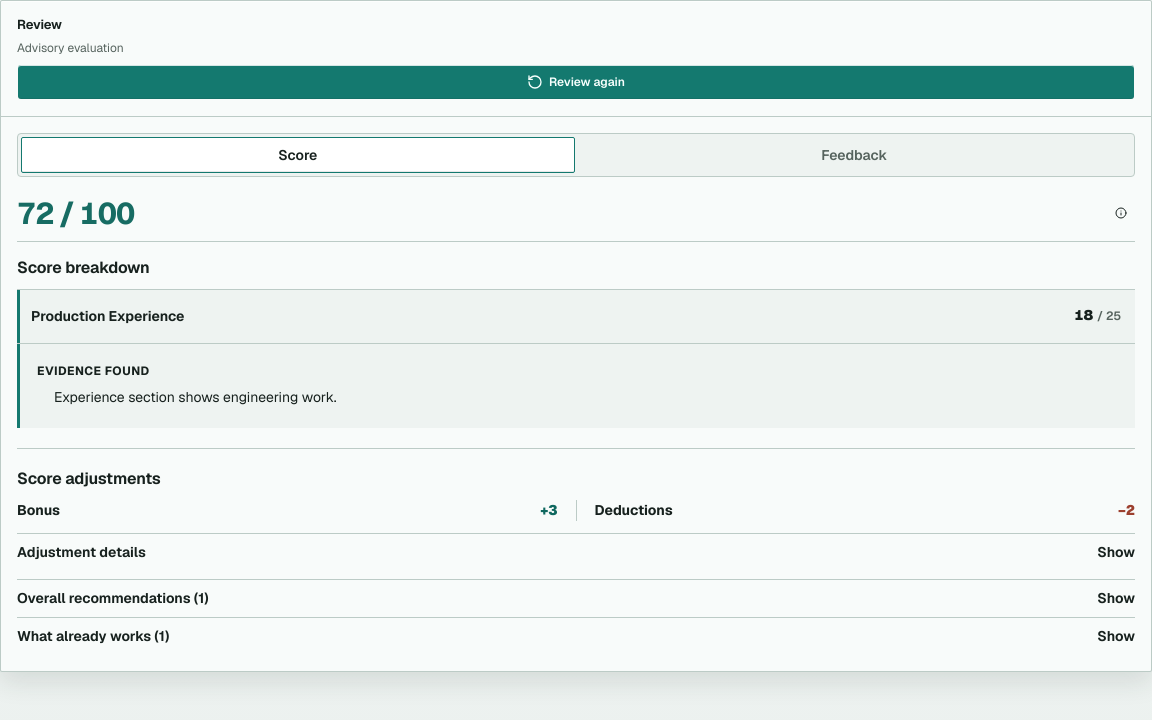
Scenario: ReviewPanel › does not repeat selected category guidance already present in findings
The width and height of the screenshot is (1152, 720).
Expected: the text "Quantify production impact." is not shown
What coordinates should you click on to do the following:
click the button "Overall recommendations (1) Show"
I would click on:
 (113, 598)
Its box is x1=17 y1=579 x2=1135 y2=617.
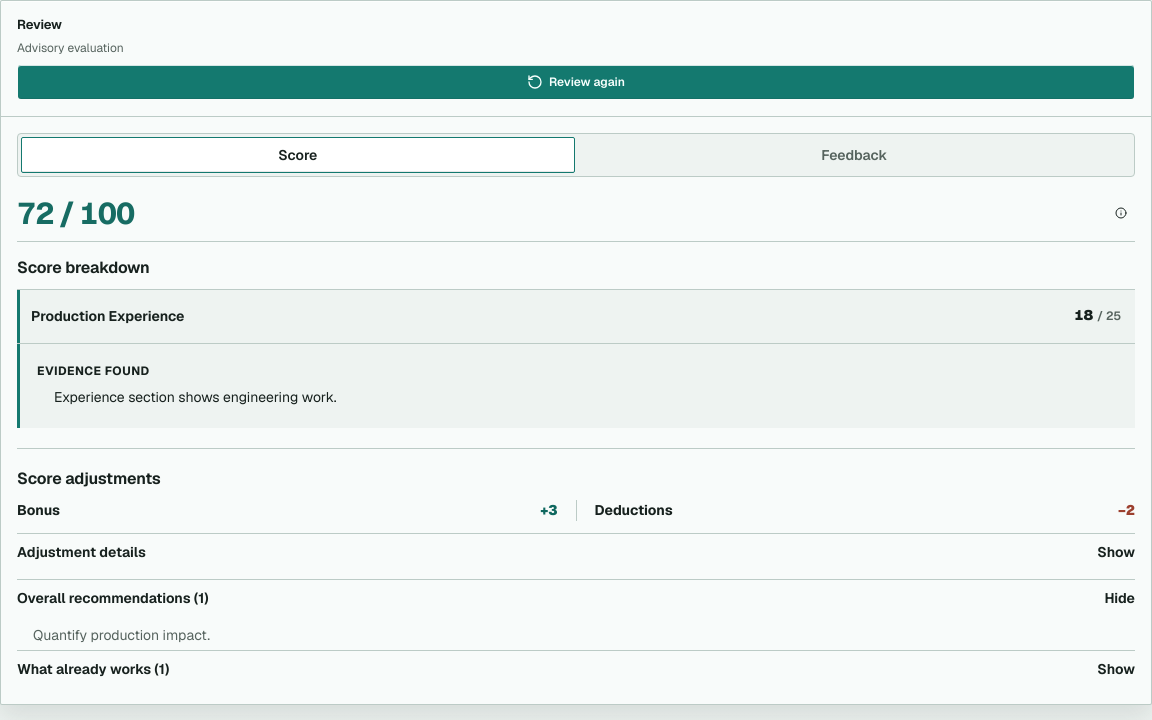
Expected: the number of list items "Quantify production impact." is 1, x1=33 y1=626 x2=210 y2=644
